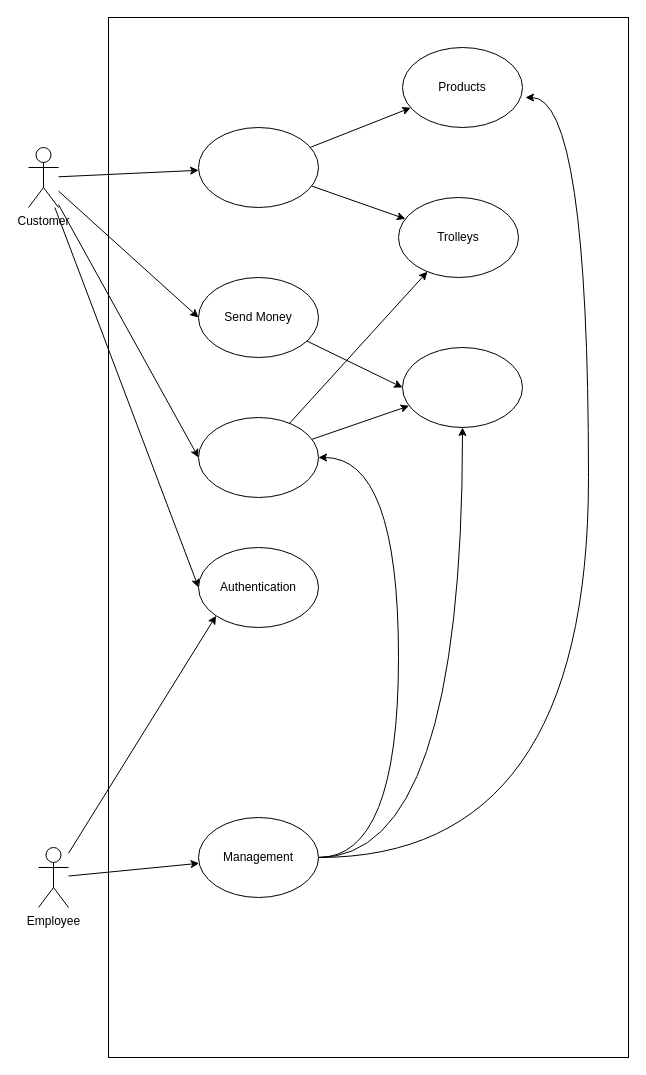
Image size: 646x1075. Some labels were removed from this diagram. Each missing label, with the centre of its shape:
Market Place: (x=258, y=167)
Transactions: (x=462, y=387)
User: (x=258, y=457)
